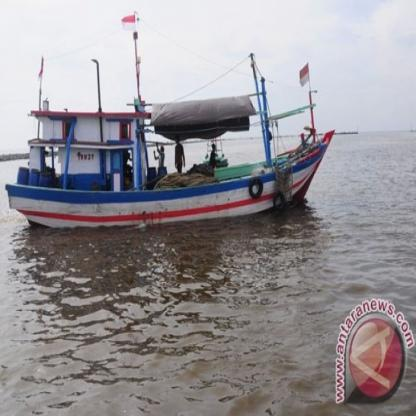fishing boat: (2, 96, 362, 238)
